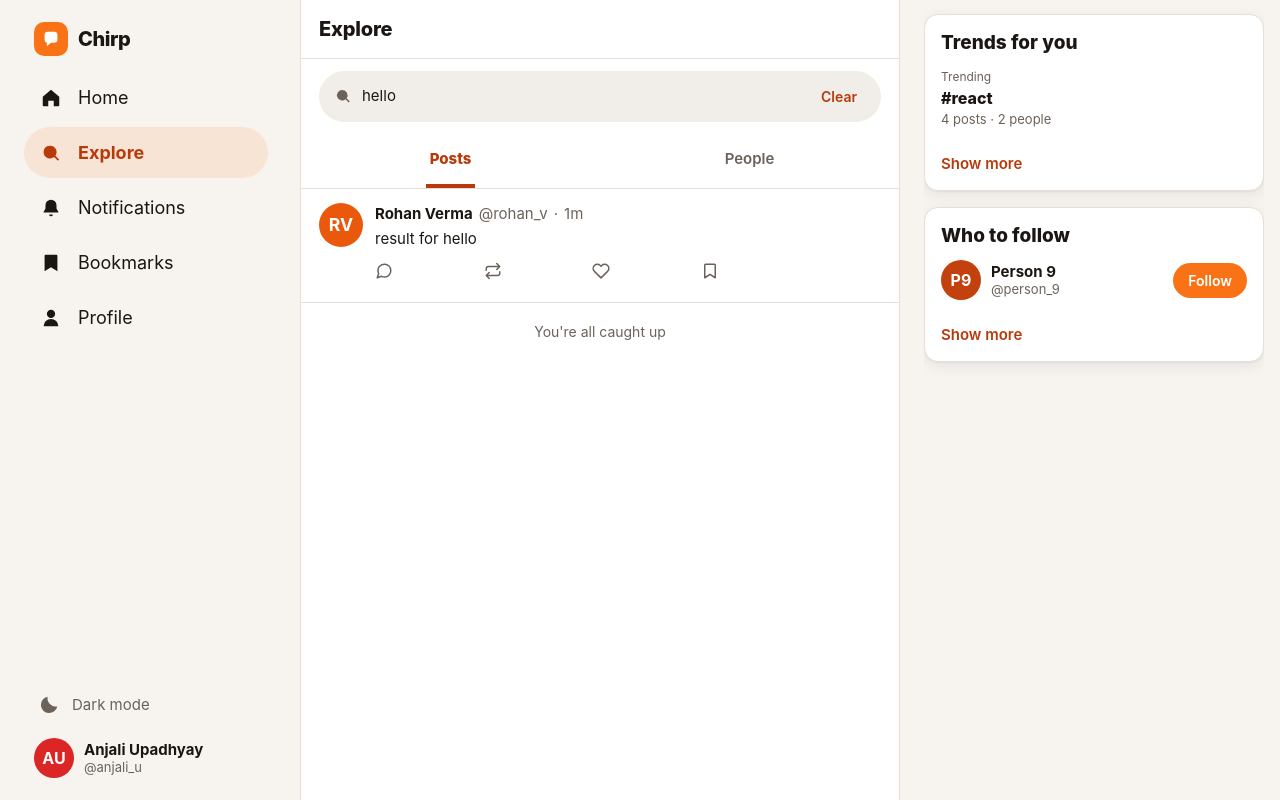
Explore › Clear empties the box and returns to the Explore home
The width and height of the screenshot is (1280, 800).
Expected: the text "result for hello" is shown, [375,228,477,248]
Click the button with aria-label "clear search".
click(839, 96)  # box [806,79,872,114]
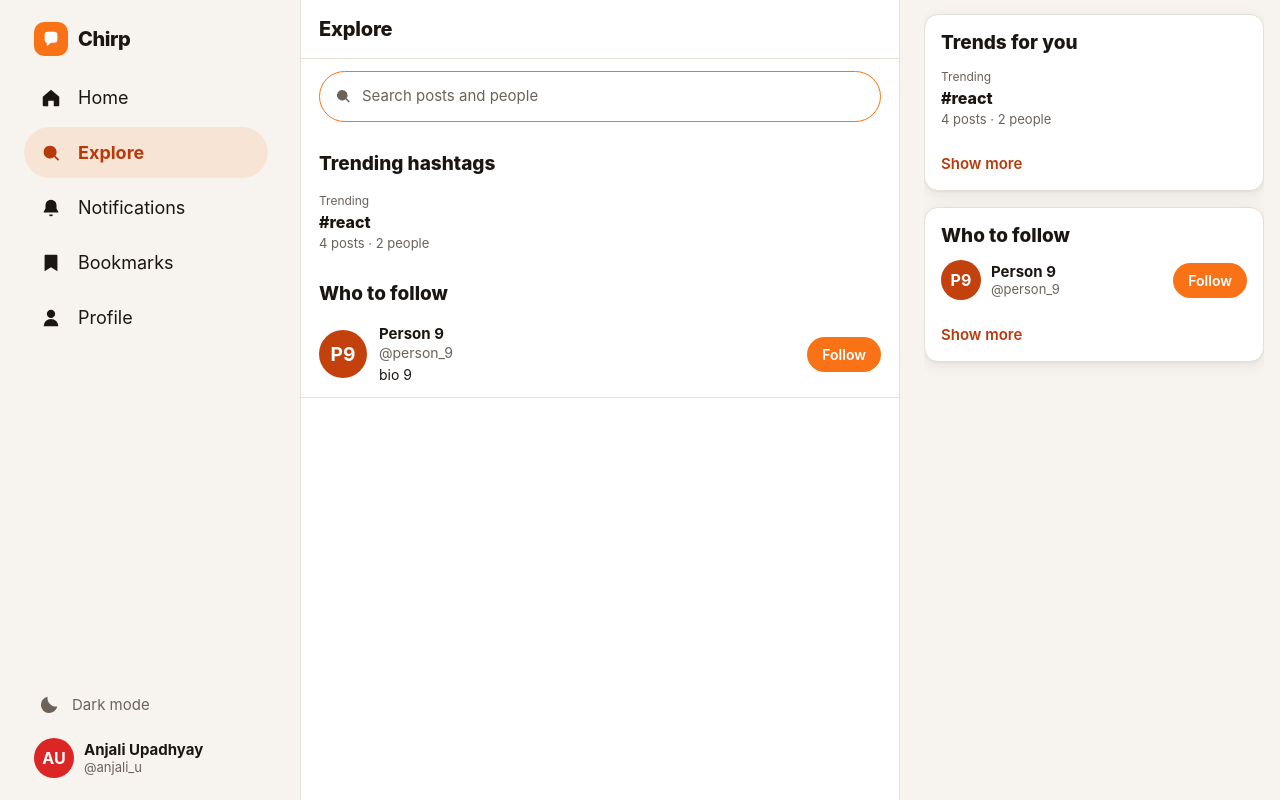
Expected: the search field named "search chirp" is empty, [362,76,872,116]
Expected: the heading "Trending hashtags" is shown, [319,152,495,174]
